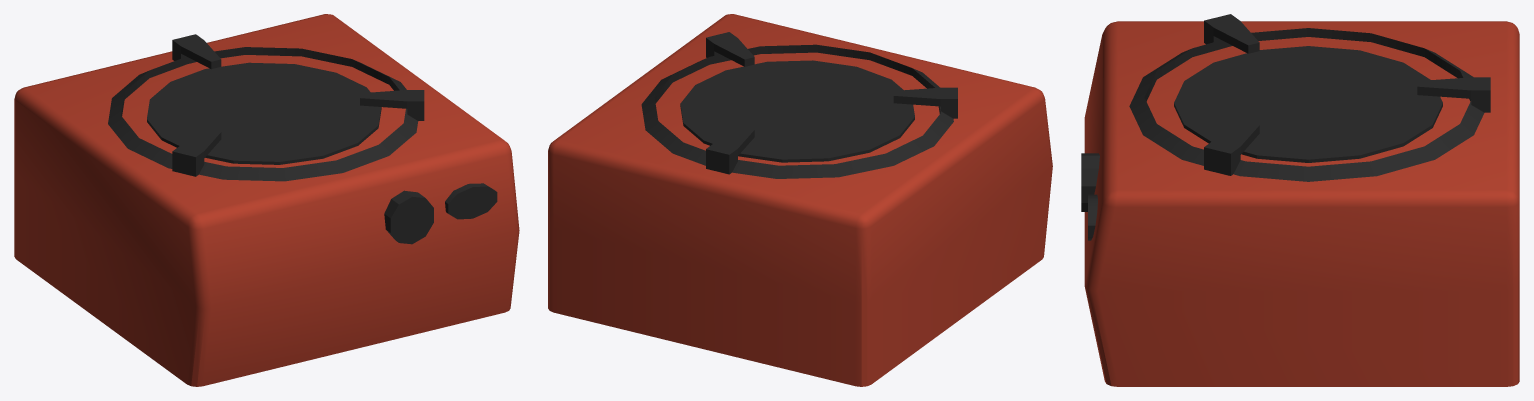
The model's file is Stove.fbx.
3 renders of one model, left to right at view 1: azimuth 30°, elevation 25°; view 2: azimuth 150°, elevation 25°; view 3: azimuth 270°, elevation 25°, orthographic. The views are drawn at different scales.
Visible parts, largest first — view 1: Stove; view 2: Stove; view 3: Stove.
Boxes of the visible parts, x1,y1,x2,y2 form: Stove: (14, 14, 519, 386); Stove: (548, 14, 1052, 386); Stove: (1081, 14, 1519, 386).
Size of the model in its own units: 200 by 112 by 208.
